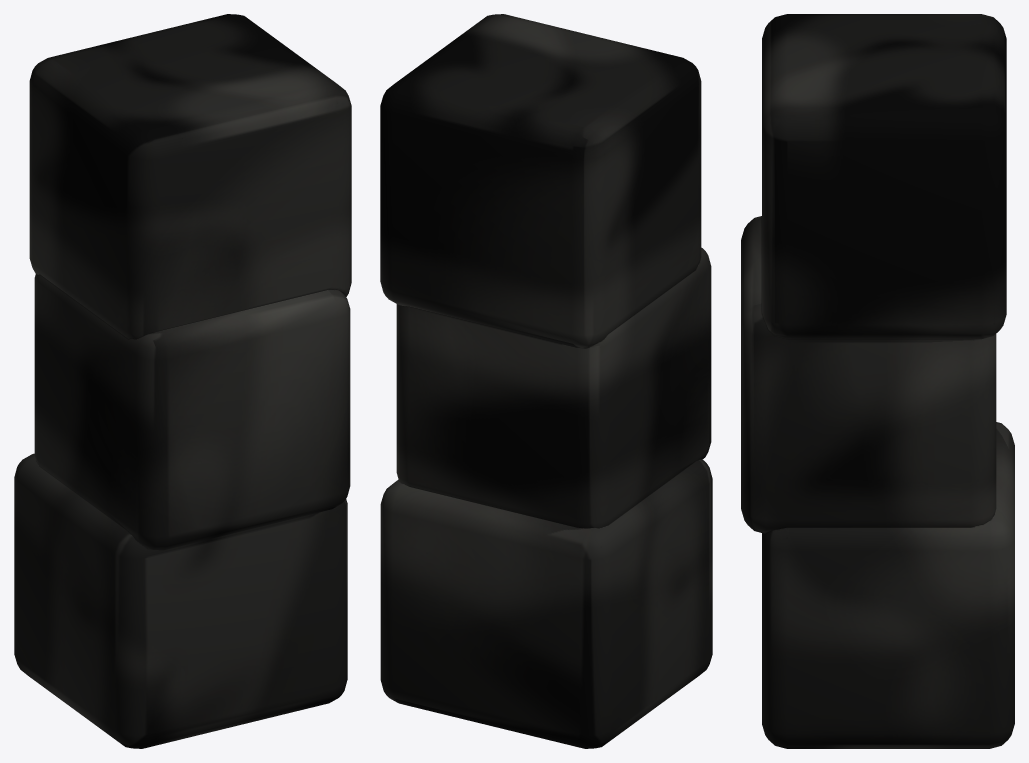
File: UR Pillars 1.fbx
3 views of the same model, side by side, from view 1: azimuth 30°, elevation 25°; view 2: azimuth 150°, elevation 25°; view 3: azimuth 270°, elevation 25° (orthographic). The views are drawn at different scales.
Visible parts, largest first — view 1: UR Pillars 1; view 2: UR Pillars 1; view 3: UR Pillars 1.
Boxes of the visible parts, x1,y1,x2,y2 form: UR Pillars 1: [14, 14, 351, 748]; UR Pillars 1: [380, 14, 712, 748]; UR Pillars 1: [741, 14, 1014, 748].
Bounding box in the file's own units: 32.1 × 81.03 × 31.37.
Materials: 1 (1 with a texture image).
